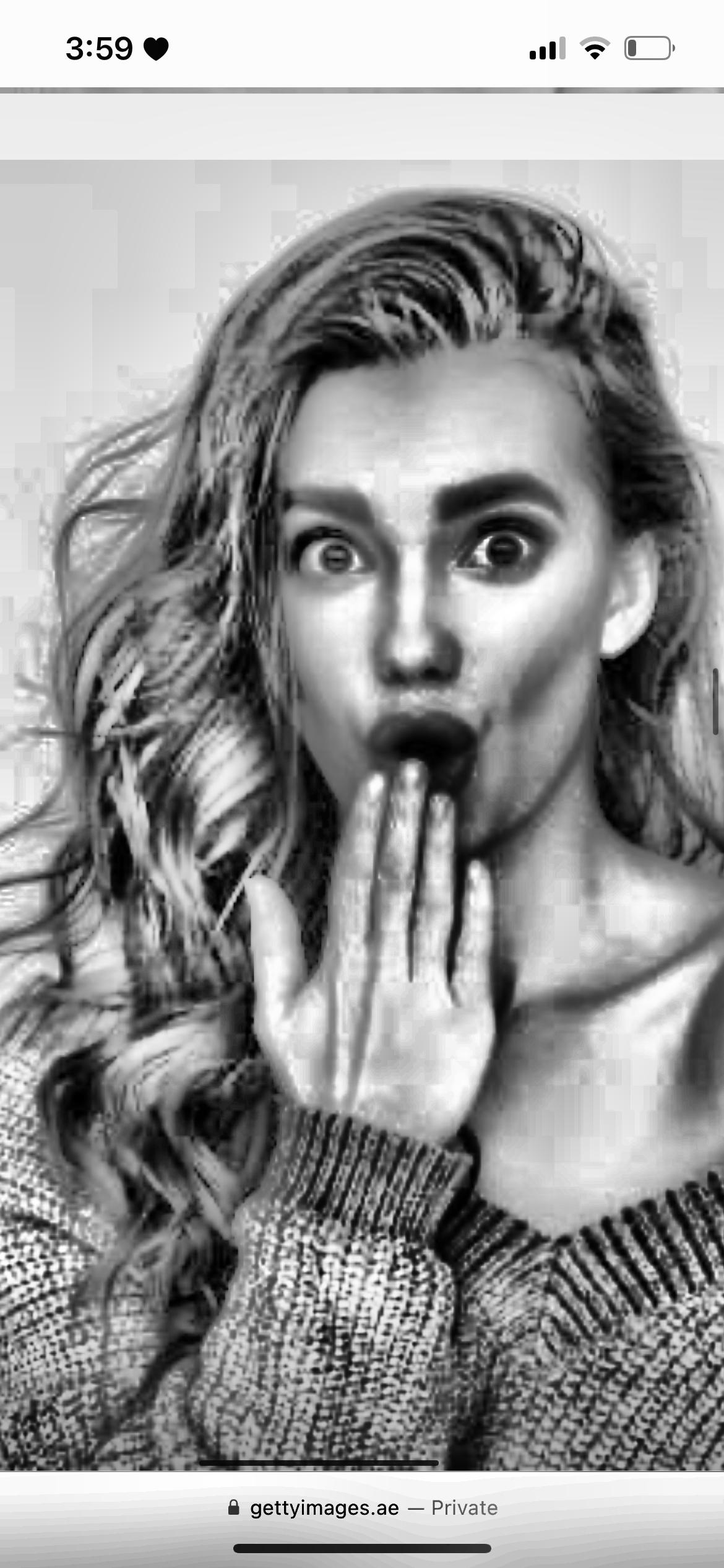surprised: (245, 332, 646, 863)
